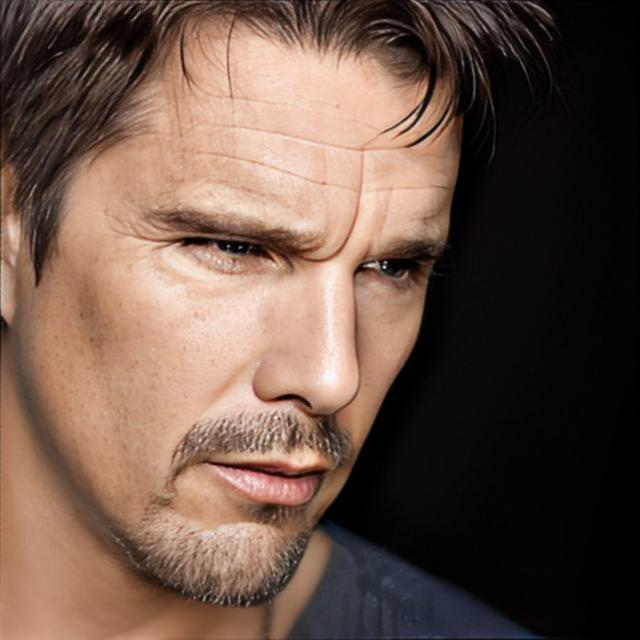anger: (24, 34, 464, 602)
